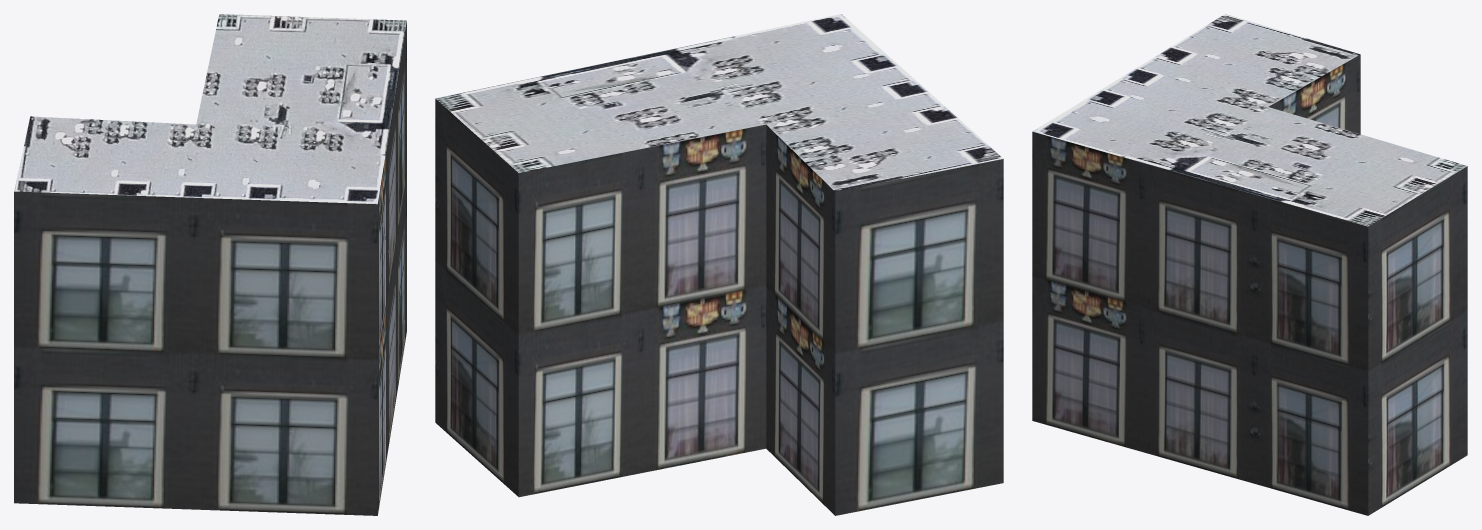
Rendered from ResTex__5128.fbx.
3 renders of one model, left to right at view 1: azimuth 30°, elevation 25°; view 2: azimuth 150°, elevation 25°; view 3: azimuth 270°, elevation 25°, orthographic. The views are drawn at different scales.
Parts seen in each view (by area): view 1: CityEngineMaterial_22_m, CityEngineMaterial_m; view 2: CityEngineMaterial_22_m, CityEngineMaterial_m; view 3: CityEngineMaterial_22_m, CityEngineMaterial_m.
Part boxes in pixels (x1=…): CityEngineMaterial_22_m: x1=14, y1=21, x2=406, y2=515; CityEngineMaterial_m: x1=14, y1=14, x2=406, y2=204; CityEngineMaterial_22_m: x1=435, y1=99, x2=1003, y2=515; CityEngineMaterial_m: x1=435, y1=14, x2=1003, y2=191; CityEngineMaterial_22_m: x1=1032, y1=54, x2=1467, y2=515; CityEngineMaterial_m: x1=1033, y1=14, x2=1466, y2=226.
Bounding box in the file's own units: 9.46 × 6 × 8.18.
2 materials, 2 textured.
